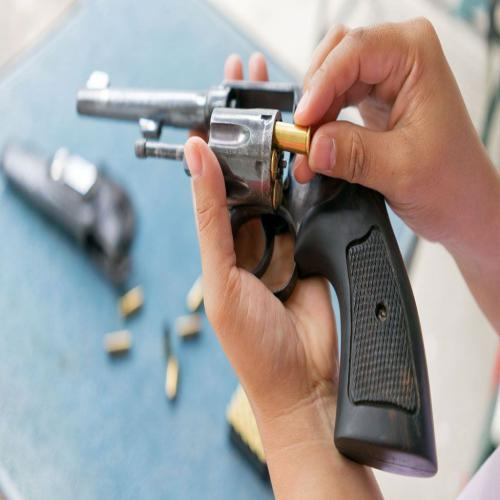gun: (76, 73, 441, 484)
